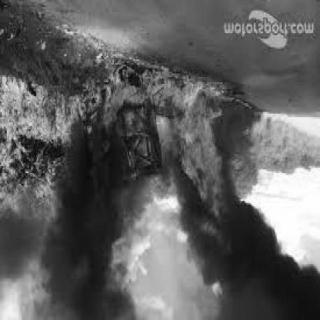Fire: (81, 77, 243, 241)
Smoke: (31, 142, 141, 320), (174, 189, 318, 320)
